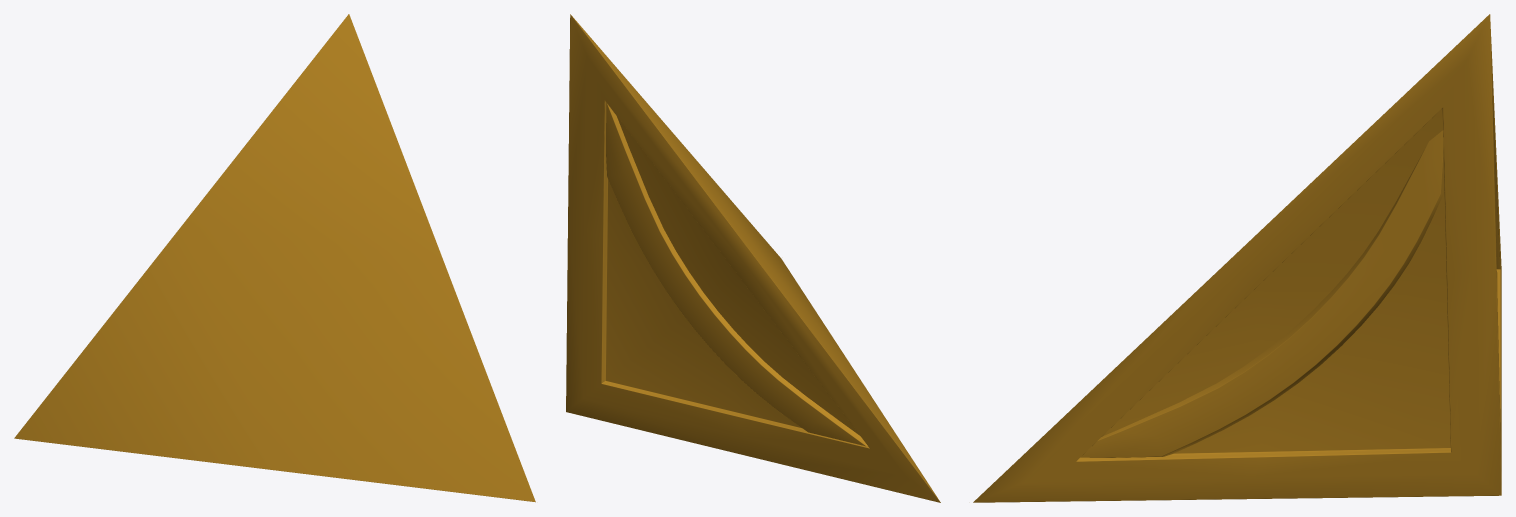
File: Holocron_Esquina_05.obj
3 views of the same model, side by side, from view 1: azimuth 30°, elevation 25°; view 2: azimuth 150°, elevation 25°; view 3: azimuth 270°, elevation 25° (orthographic). The views are drawn at different scales.
Parts seen in each view (by area): view 1: Holocron_Esquina_05; view 2: Holocron_Esquina_05; view 3: Holocron_Esquina_05.
Boxes of the visible parts, left/top/right/bottom form: Holocron_Esquina_05: left=14, top=14, right=535, bottom=502; Holocron_Esquina_05: left=566, top=14, right=940, bottom=502; Holocron_Esquina_05: left=973, top=14, right=1501, bottom=502.
Bounding box in the file's own units: 5.17 × 5.23 × 5.16.
